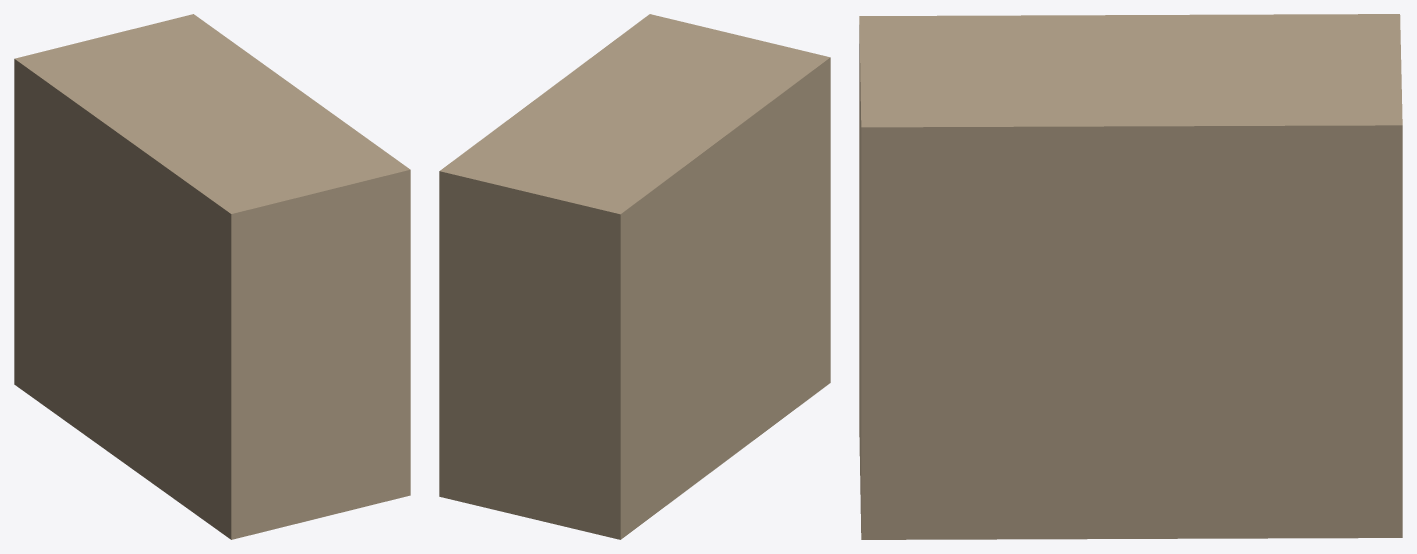
File: bld_164606008.dae
3 views of the same model, side by side, from view 1: azimuth 30°, elevation 25°; view 2: azimuth 150°, elevation 25°; view 3: azimuth 270°, elevation 25° (orthographic). The views are drawn at different scales.
Parts seen in each view (by area): view 1: bld_164606008; view 2: bld_164606008; view 3: bld_164606008.
Part boxes in pixels (box(x1,y1,x2,y2)): bld_164606008: box(14, 14, 410, 539); bld_164606008: box(439, 14, 830, 539); bld_164606008: box(859, 14, 1402, 539).
Size of the model in its own units: 4.71 by 9.55 by 8.
